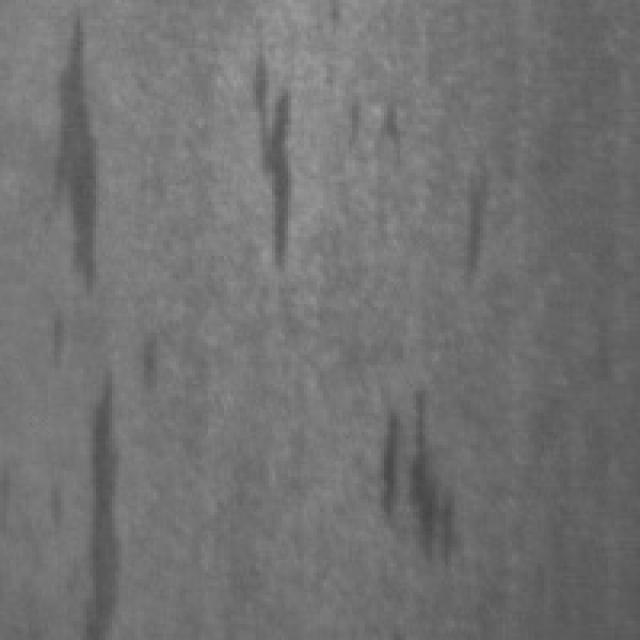inclusion: (22, 3, 118, 294), (218, 25, 314, 278), (54, 349, 134, 630), (365, 378, 464, 586), (432, 134, 506, 320), (333, 93, 406, 173)
